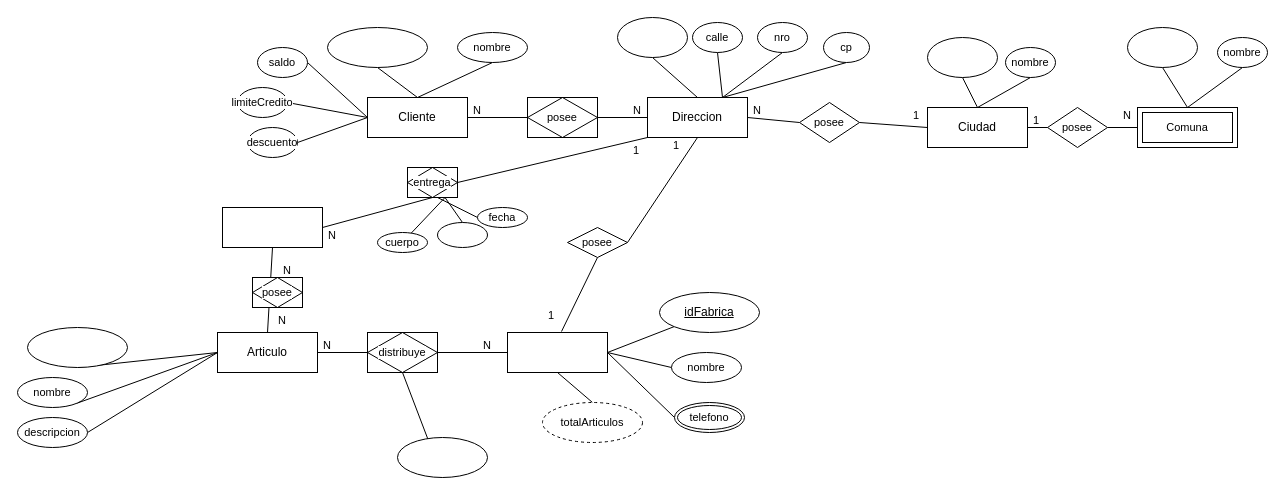
This 1285x496 diagram has some shape labels left out. The shapes that lost their labels are listed below. From the top down, each one's box as (x1, y1, x2, y2) in pixels, then its label:
(326, 26, 428, 68): idCliente
(616, 16, 688, 58): idDireccion
(926, 36, 998, 78): idCiudad
(1126, 26, 1198, 68): idComuna
(222, 206, 322, 248): Pedido
(436, 222, 488, 248): cabecera
(26, 326, 128, 368): idArticulo
(506, 332, 608, 372): Proveedor
(396, 436, 488, 478): existenciasDeArticulo
